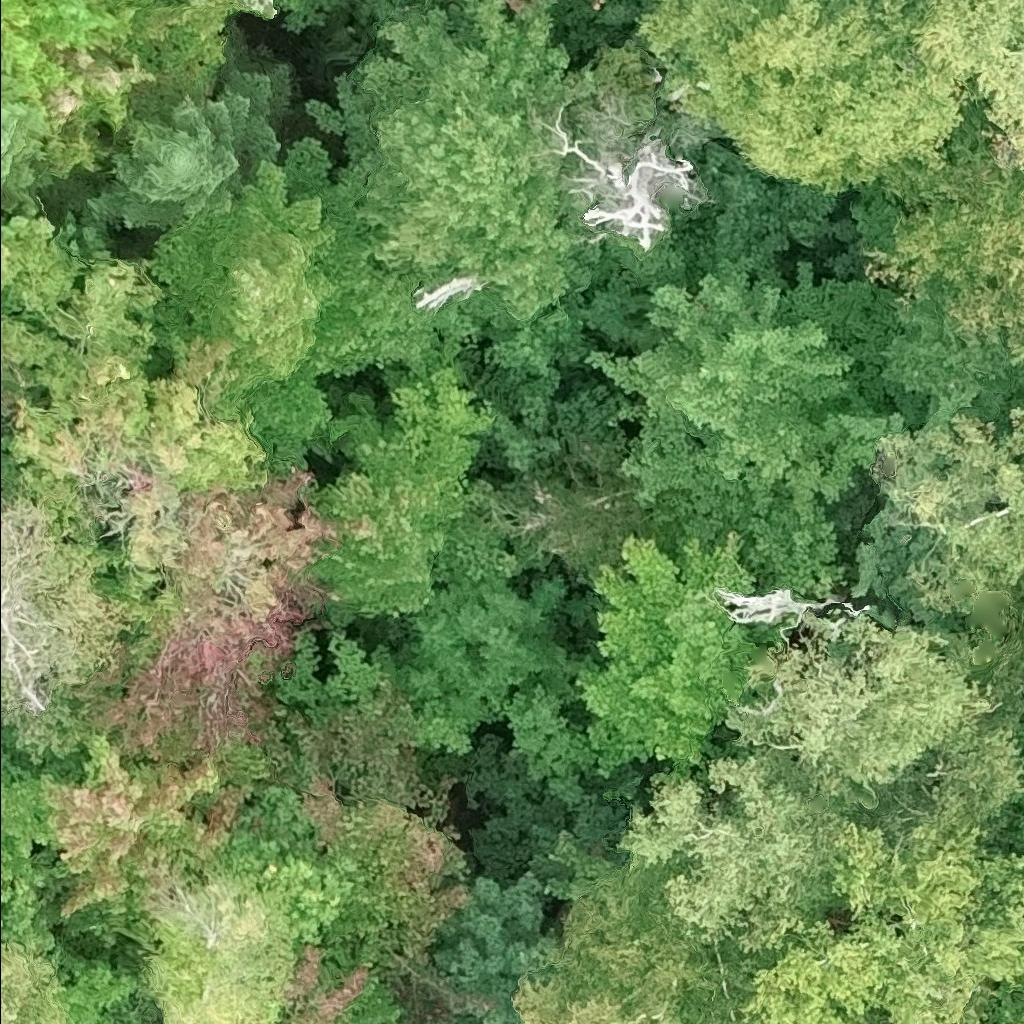crown: (623, 611, 1023, 978), (588, 265, 910, 599), (141, 161, 420, 474), (90, 468, 340, 785), (339, 0, 587, 319), (5, 269, 268, 540), (239, 700, 469, 987), (732, 816, 1023, 1023), (642, 0, 972, 182), (579, 532, 805, 779), (0, 732, 258, 912), (516, 839, 759, 1023), (320, 367, 498, 617), (852, 405, 1023, 629), (884, 104, 1023, 363), (93, 68, 280, 227), (0, 499, 125, 728), (0, 0, 147, 170), (142, 872, 303, 1023), (913, 0, 1023, 171), (551, 125, 696, 250), (0, 214, 82, 358), (274, 941, 401, 1023), (102, 0, 275, 60), (0, 62, 55, 196), (0, 828, 57, 950), (0, 937, 75, 1023), (716, 585, 813, 634), (57, 969, 138, 1023), (989, 621, 1023, 737), (982, 976, 1023, 1023), (290, 0, 333, 9), (993, 0, 1023, 5), (265, 0, 275, 2)
